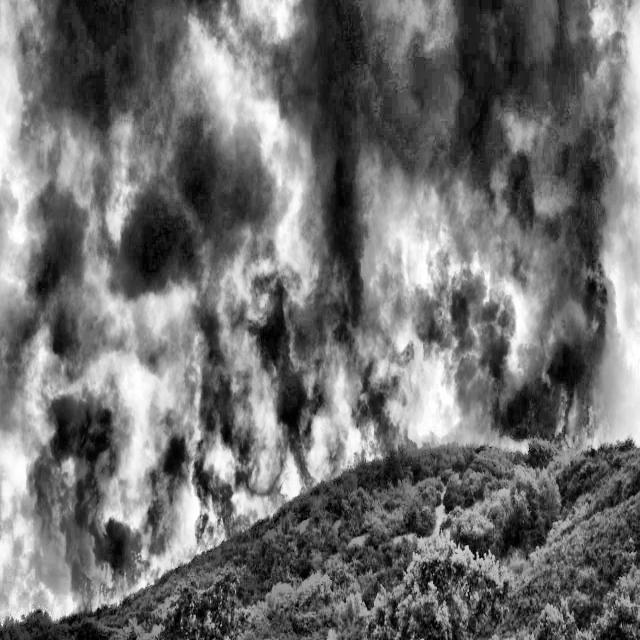fire: (54, 362, 619, 568)
